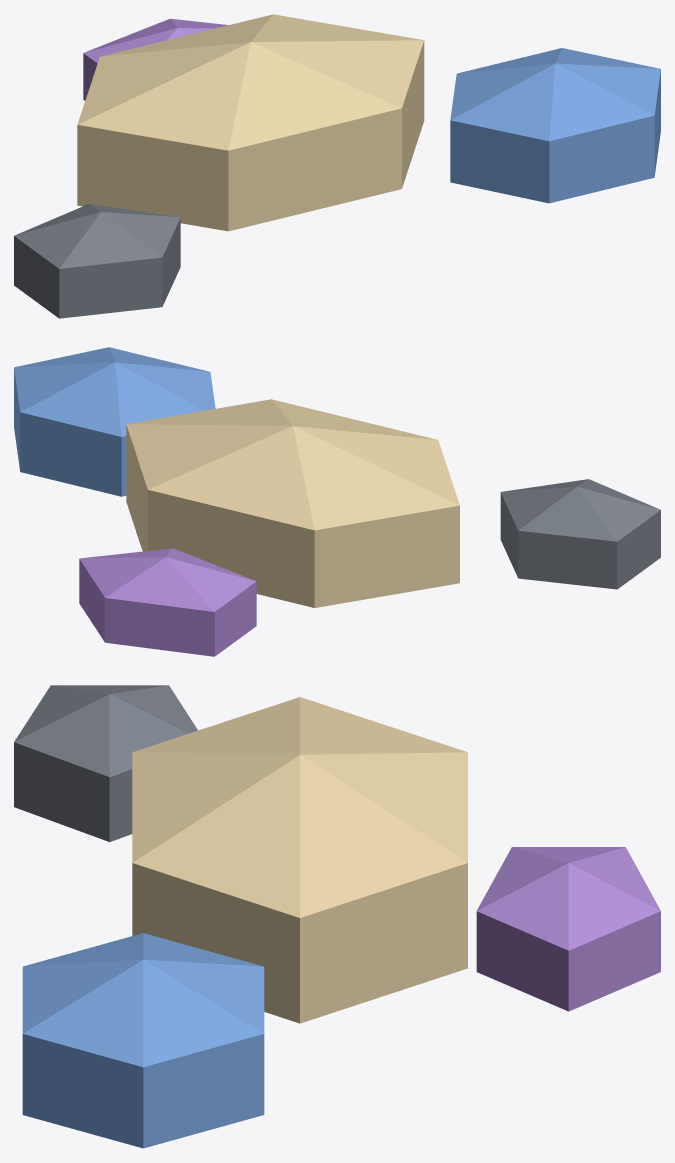
The model's file is deco_sea_glass.obj.
3 renders of one model, top to bottom at view 1: azimuth 30°, elevation 25°; view 2: azimuth 150°, elevation 25°; view 3: azimuth 270°, elevation 25°, orthographic. The views are drawn at different scales.
Parts seen in each view (by area): view 1: deco_sea_glass; view 2: deco_sea_glass; view 3: deco_sea_glass.
Boxes of the visible parts, x1,y1,x2,y2 form: deco_sea_glass: (14, 14, 660, 318); deco_sea_glass: (14, 347, 660, 656); deco_sea_glass: (14, 685, 660, 1148).
Bounding box in the file's own units: 0.0429 × 0.0104 × 0.0289.
Materials: 1 (1 with a texture image).
